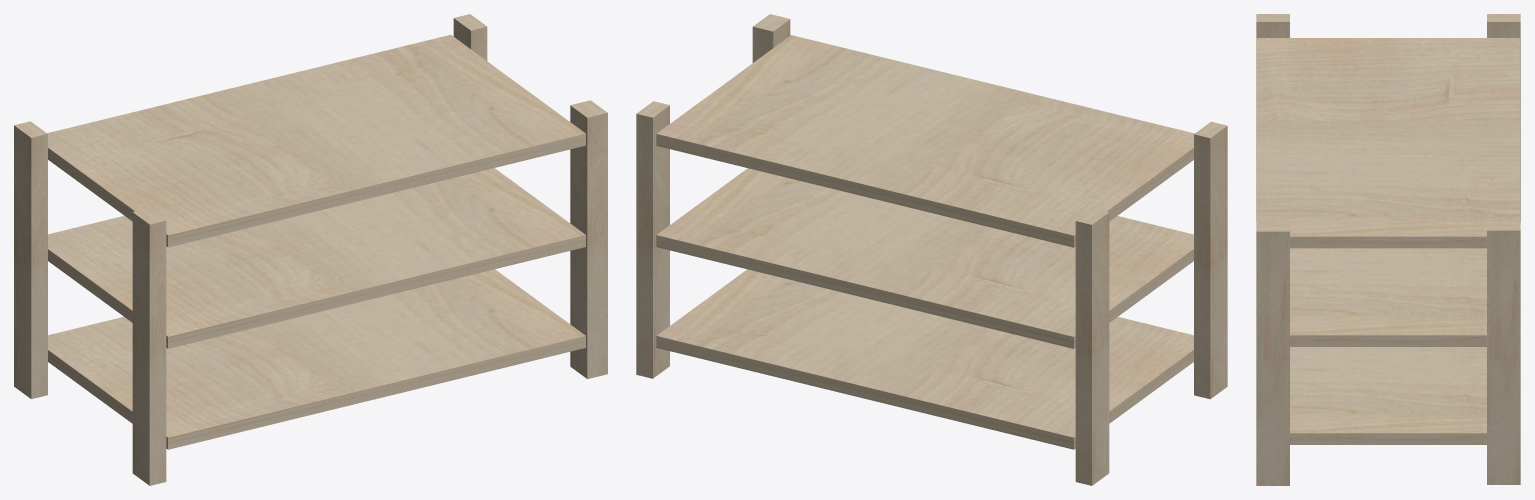
The model's file is shelf.glb.
3 views of the same model, side by side, from view 1: azimuth 30°, elevation 25°; view 2: azimuth 150°, elevation 25°; view 3: azimuth 270°, elevation 25° (orthographic). The views are drawn at different scales.
Visible parts, largest first — view 1: Cube.015, Cube.014, Cube.013, Cube, Cube.010, Cube.012, Cube.011; view 2: Cube.015, Cube.014, Cube.013, Cube.012, Cube, Cube.011, Cube.010; view 3: Cube.015, Cube.014, Cube.013, Cube.010, Cube.011, Cube.012, Cube.
Part boxes in pixels (bbox=[...]): Cube.015: bbox=[47, 34, 585, 247]; Cube.014: bbox=[48, 168, 585, 348]; Cube.013: bbox=[48, 269, 585, 449]; Cube: bbox=[132, 208, 166, 485]; Cube.010: bbox=[570, 100, 607, 378]; Cube.012: bbox=[14, 121, 47, 398]; Cube.011: bbox=[453, 14, 487, 60]; Cube.015: bbox=[656, 35, 1194, 247]; Cube.014: bbox=[656, 168, 1193, 348]; Cube.013: bbox=[656, 269, 1193, 449]; Cube.012: bbox=[1075, 208, 1109, 485]; Cube: bbox=[1194, 121, 1227, 399]; Cube.011: bbox=[636, 101, 669, 378]; Cube.010: bbox=[752, 14, 790, 62]; Cube.015: bbox=[1256, 38, 1519, 248]; Cube.014: bbox=[1290, 248, 1486, 346]; Cube.013: bbox=[1290, 347, 1486, 444]; Cube.010: bbox=[1256, 222, 1289, 485]; Cube.011: bbox=[1487, 223, 1520, 484]; Cube.012: bbox=[1487, 14, 1520, 222]; Cube: bbox=[1256, 14, 1289, 221].
Size of the model in its own units: 1.92 by 1.05 by 0.9872.
Materials: 7 (7 with a texture image).
